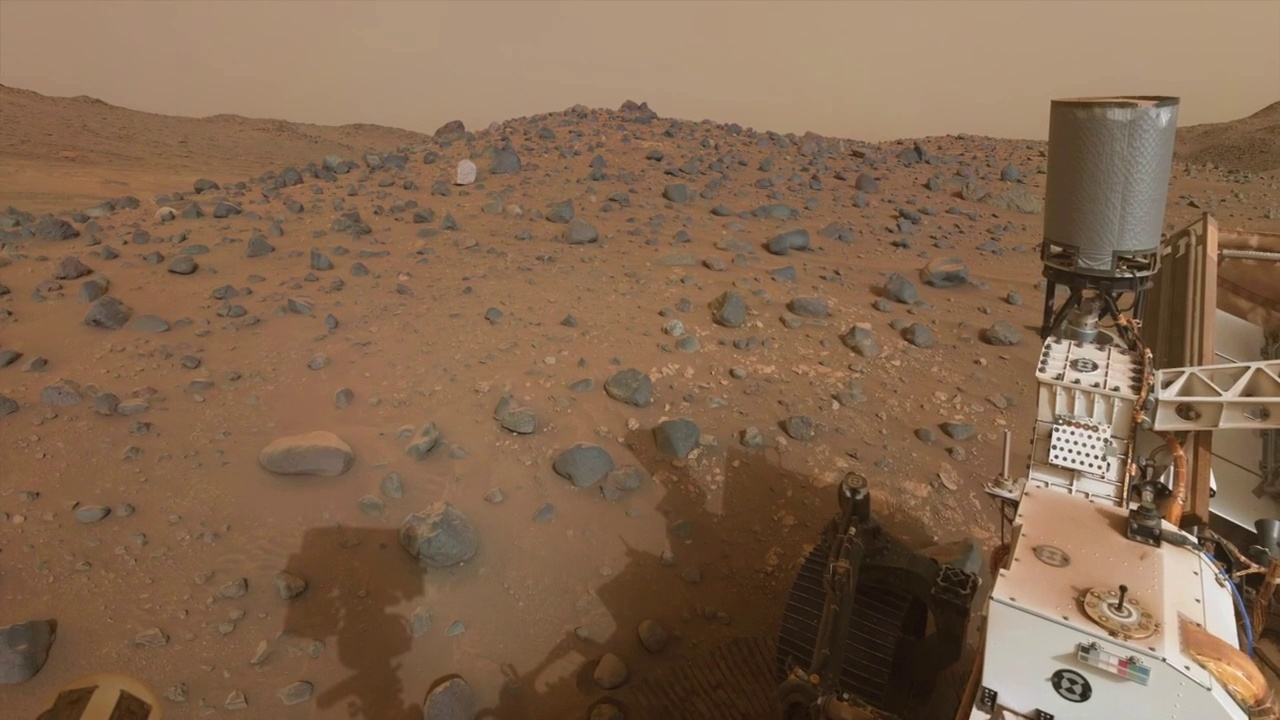rock: (552, 446, 615, 500), (869, 274, 927, 314), (603, 374, 650, 408), (707, 292, 748, 328), (1103, 585, 1138, 624), (912, 428, 954, 457), (777, 416, 819, 442), (888, 322, 930, 348), (977, 326, 1021, 347), (838, 326, 866, 357), (937, 422, 978, 443), (785, 300, 832, 318)
